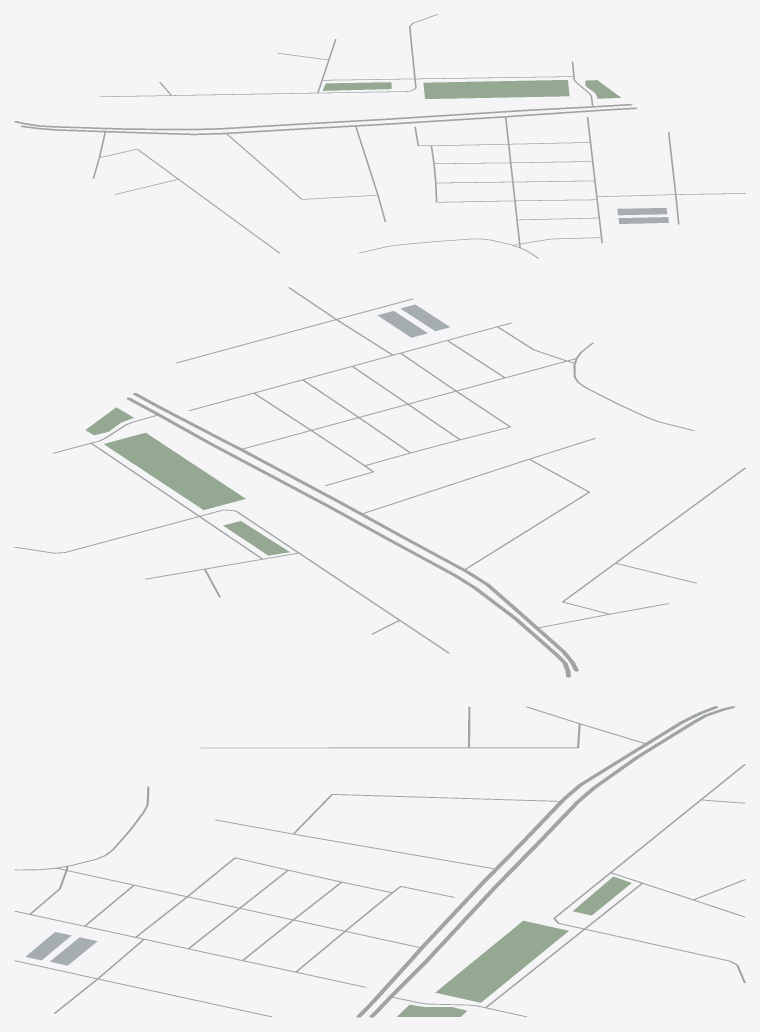
File: -18_21-known-coarse.glb
3 renders of one model, top to bottom at view 1: azimuth 30°, elevation 25°; view 2: azimuth 150°, elevation 25°; view 3: azimuth 270°, elevation 25°, orthographic. The views are drawn at different scales.
Size of the model in its own units: 1005 by 0.15 by 998.
